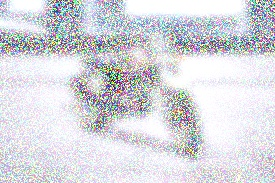Vehicle: (61, 27, 203, 156)
